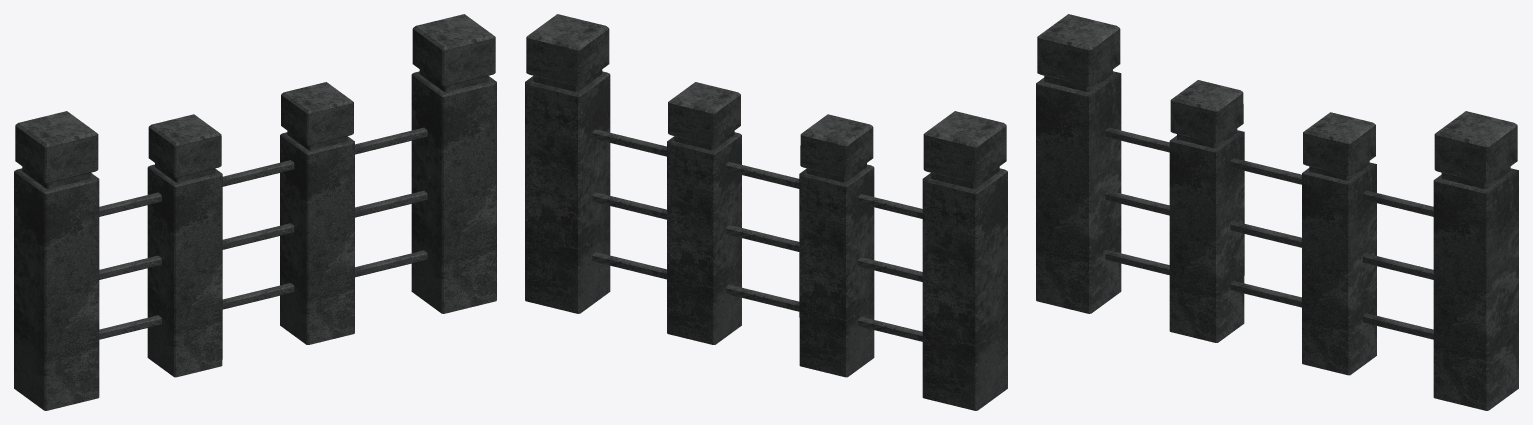
Rendered from stone_fence.fbx.
The picture shows the model from 3 angles, left to right: view 1: azimuth 30°, elevation 25°; view 2: azimuth 150°, elevation 25°; view 3: azimuth 330°, elevation 25°; orthographic projection.
Parts seen in each view (by area): view 1: stone_fence; view 2: stone_fence; view 3: stone_fence.
Part boxes in pixels (bbox=[...]): stone_fence: bbox=[14, 14, 496, 410]; stone_fence: bbox=[525, 14, 1007, 410]; stone_fence: bbox=[1036, 14, 1518, 410].
Bounding box in the file's own units: 113 × 63.33 × 13.75.
1 material, 1 textured.
